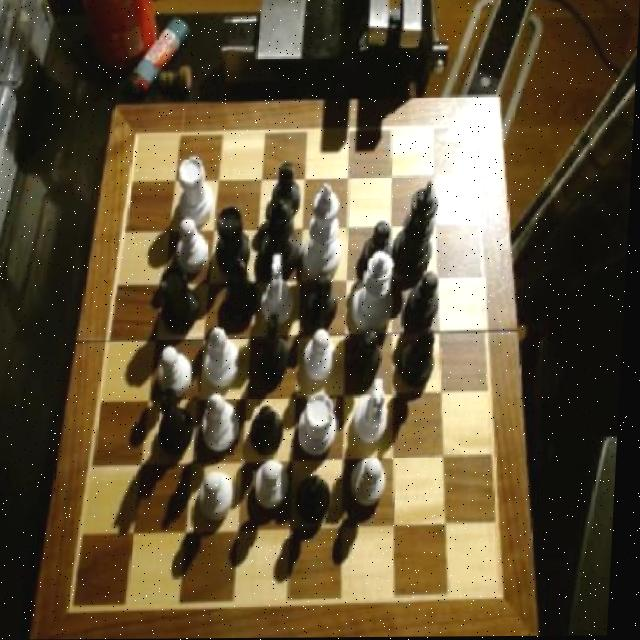bishop: (399, 328, 444, 391), (225, 254, 261, 319)
black-bishop: (396, 184, 443, 279)
black-king: (157, 385, 201, 452), (258, 312, 295, 382)
black-knight: (297, 475, 337, 527), (410, 274, 446, 328), (355, 330, 390, 383), (308, 273, 342, 327), (255, 404, 290, 455), (273, 163, 306, 217), (366, 224, 398, 267)
black-pawn: (261, 200, 305, 278)
black-queen: (160, 268, 206, 332), (215, 206, 255, 272)
black-rook: (207, 324, 247, 389), (206, 394, 246, 451)
white-bishop: (305, 181, 348, 279)
white-king: (263, 254, 299, 325), (357, 376, 394, 444)
white-knight: (176, 215, 213, 278), (356, 453, 394, 512), (307, 326, 343, 384), (205, 471, 243, 524), (258, 459, 296, 512), (162, 344, 199, 398)
white-pawn: (354, 253, 398, 334)
white-queen: (179, 156, 218, 225), (303, 392, 343, 457)
